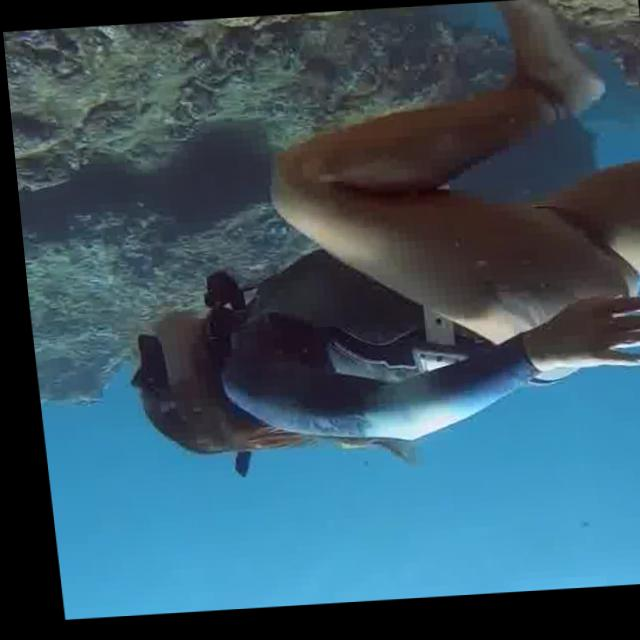human: (76, 0, 640, 485)
